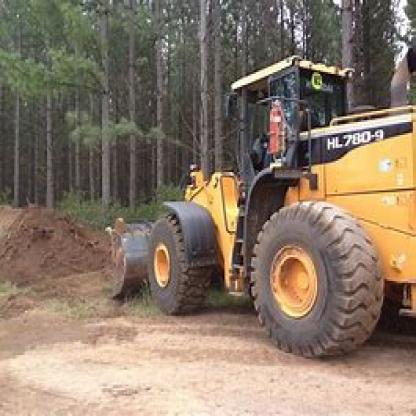bull_dozer/loader/grader: (102, 46, 414, 359)
